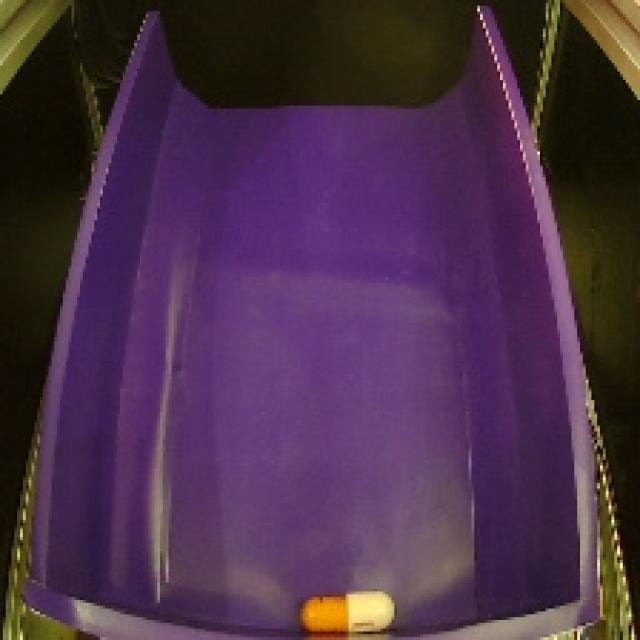small: (297, 583, 402, 639)
